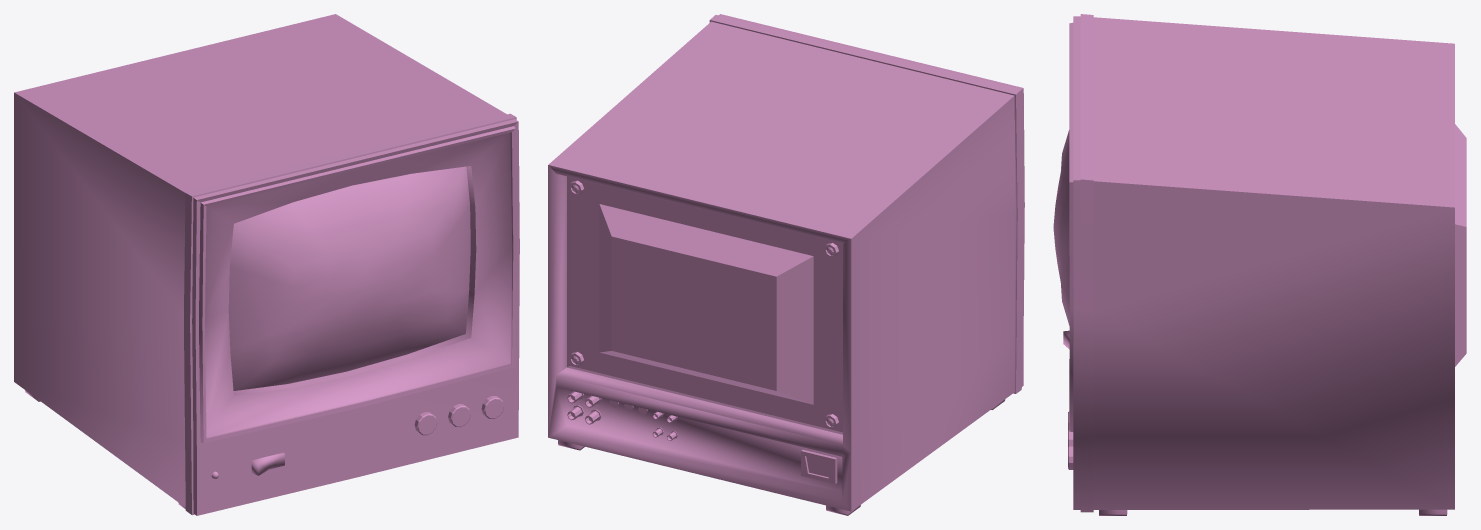
Rendered from cctv_crt.fbx.
3 renders of one model, left to right at view 1: azimuth 30°, elevation 25°; view 2: azimuth 150°, elevation 25°; view 3: azimuth 270°, elevation 25°, orthographic. The views are drawn at different scales.
Parts seen in each view (by area): view 1: cctv_crt; view 2: cctv_crt; view 3: cctv_crt.
Boxes of the visible parts, box(x1,y1,x2,y2) form: cctv_crt: box(14, 14, 519, 515); cctv_crt: box(548, 14, 1024, 515); cctv_crt: box(1053, 14, 1466, 515).
Size of the model in its own units: 0.4726 by 0.4488 by 0.493.
